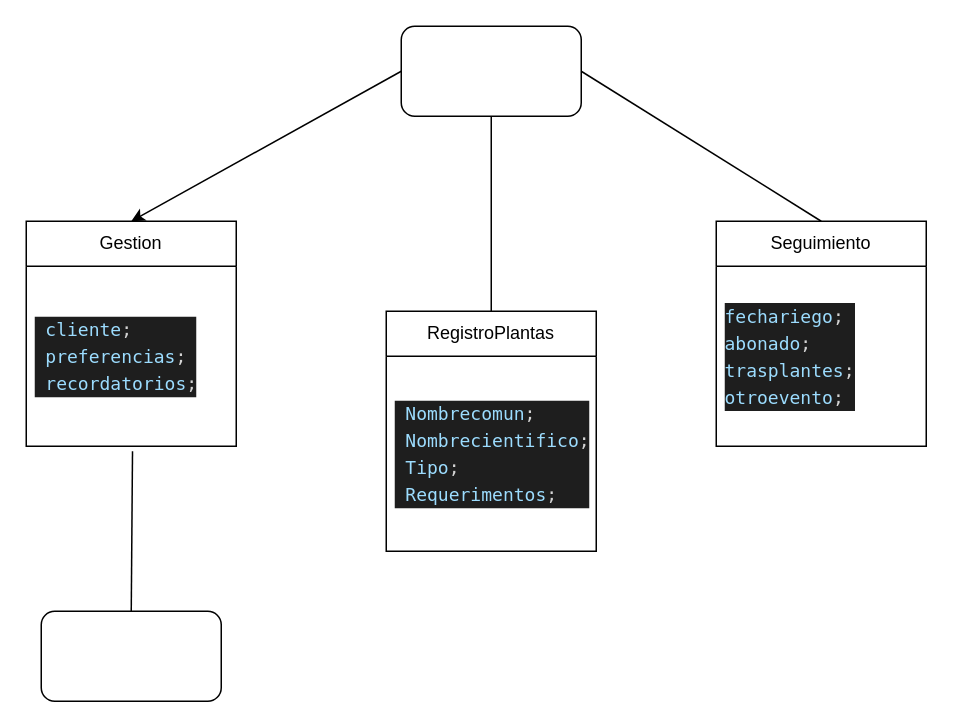
Image size: 953x728. Some labels were removed from this diagram. The shapes that lost their labels are listed below. From the top down, each one's centre as x and y in pixels, then its label:
At [490,70]: "VIVERO DE PLANTAS".
At [130,655]: "Sistema".
